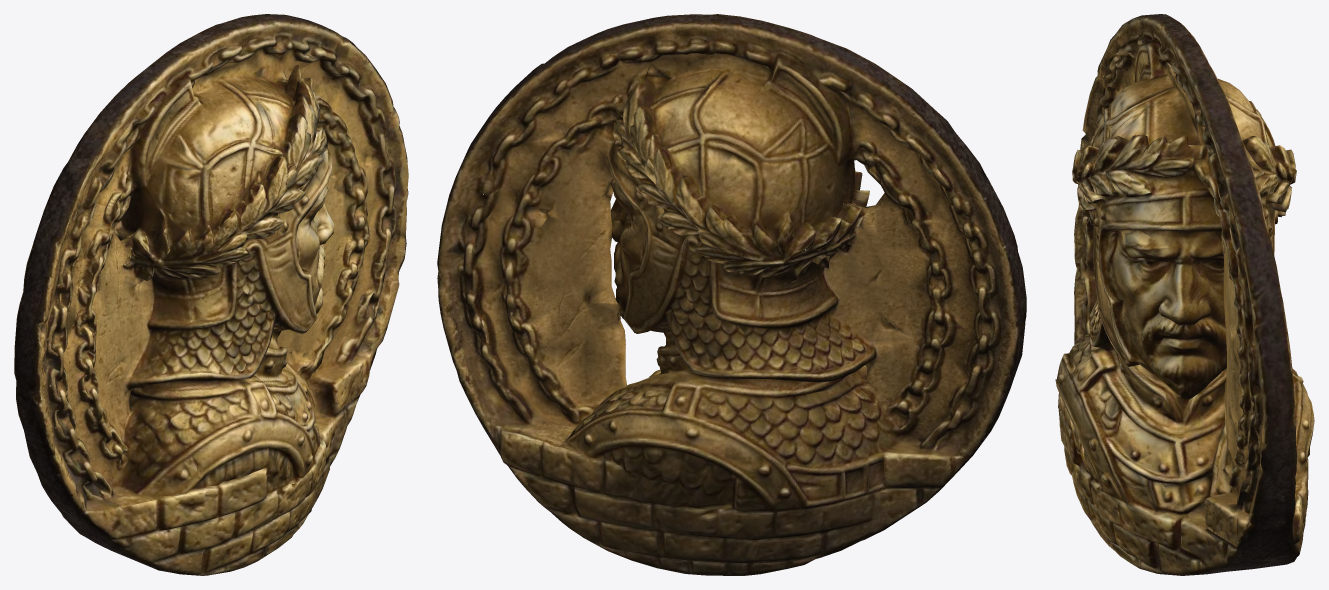
Rendered from hero-validator.glb.
The picture shows the model from 3 angles, left to right: view 1: azimuth 30°, elevation 25°; view 2: azimuth 150°, elevation 25°; view 3: azimuth 270°, elevation 25°; orthographic projection. The views are drawn at different scales.
Parts seen in each view (by area): view 1: tripo_node_2cd81435-e100-4990-9f1e-6ae263ca2d48; view 2: tripo_node_2cd81435-e100-4990-9f1e-6ae263ca2d48; view 3: tripo_node_2cd81435-e100-4990-9f1e-6ae263ca2d48.
Boxes of the visible parts, x1,y1,x2,y2 form: tripo_node_2cd81435-e100-4990-9f1e-6ae263ca2d48: [14, 14, 408, 575]; tripo_node_2cd81435-e100-4990-9f1e-6ae263ca2d48: [437, 14, 1026, 575]; tripo_node_2cd81435-e100-4990-9f1e-6ae263ca2d48: [1055, 14, 1314, 575].
Bounding box in the file's own units: 0.9756 × 0.9995 × 0.4629.
Materials: 1 (1 with a texture image).
